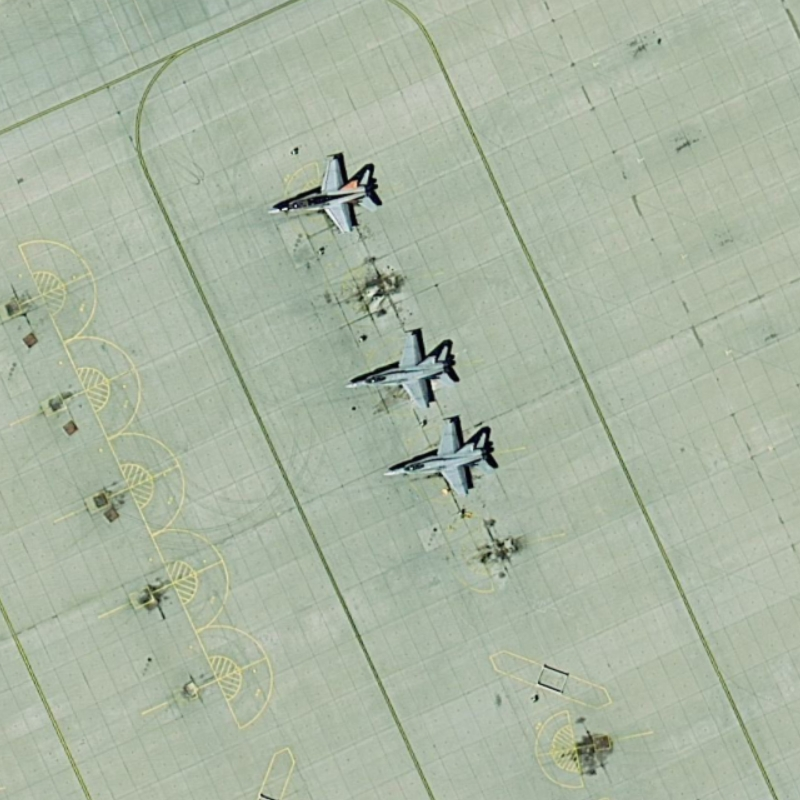A16: (339, 320, 462, 414), (267, 150, 387, 235), (380, 412, 499, 497)
